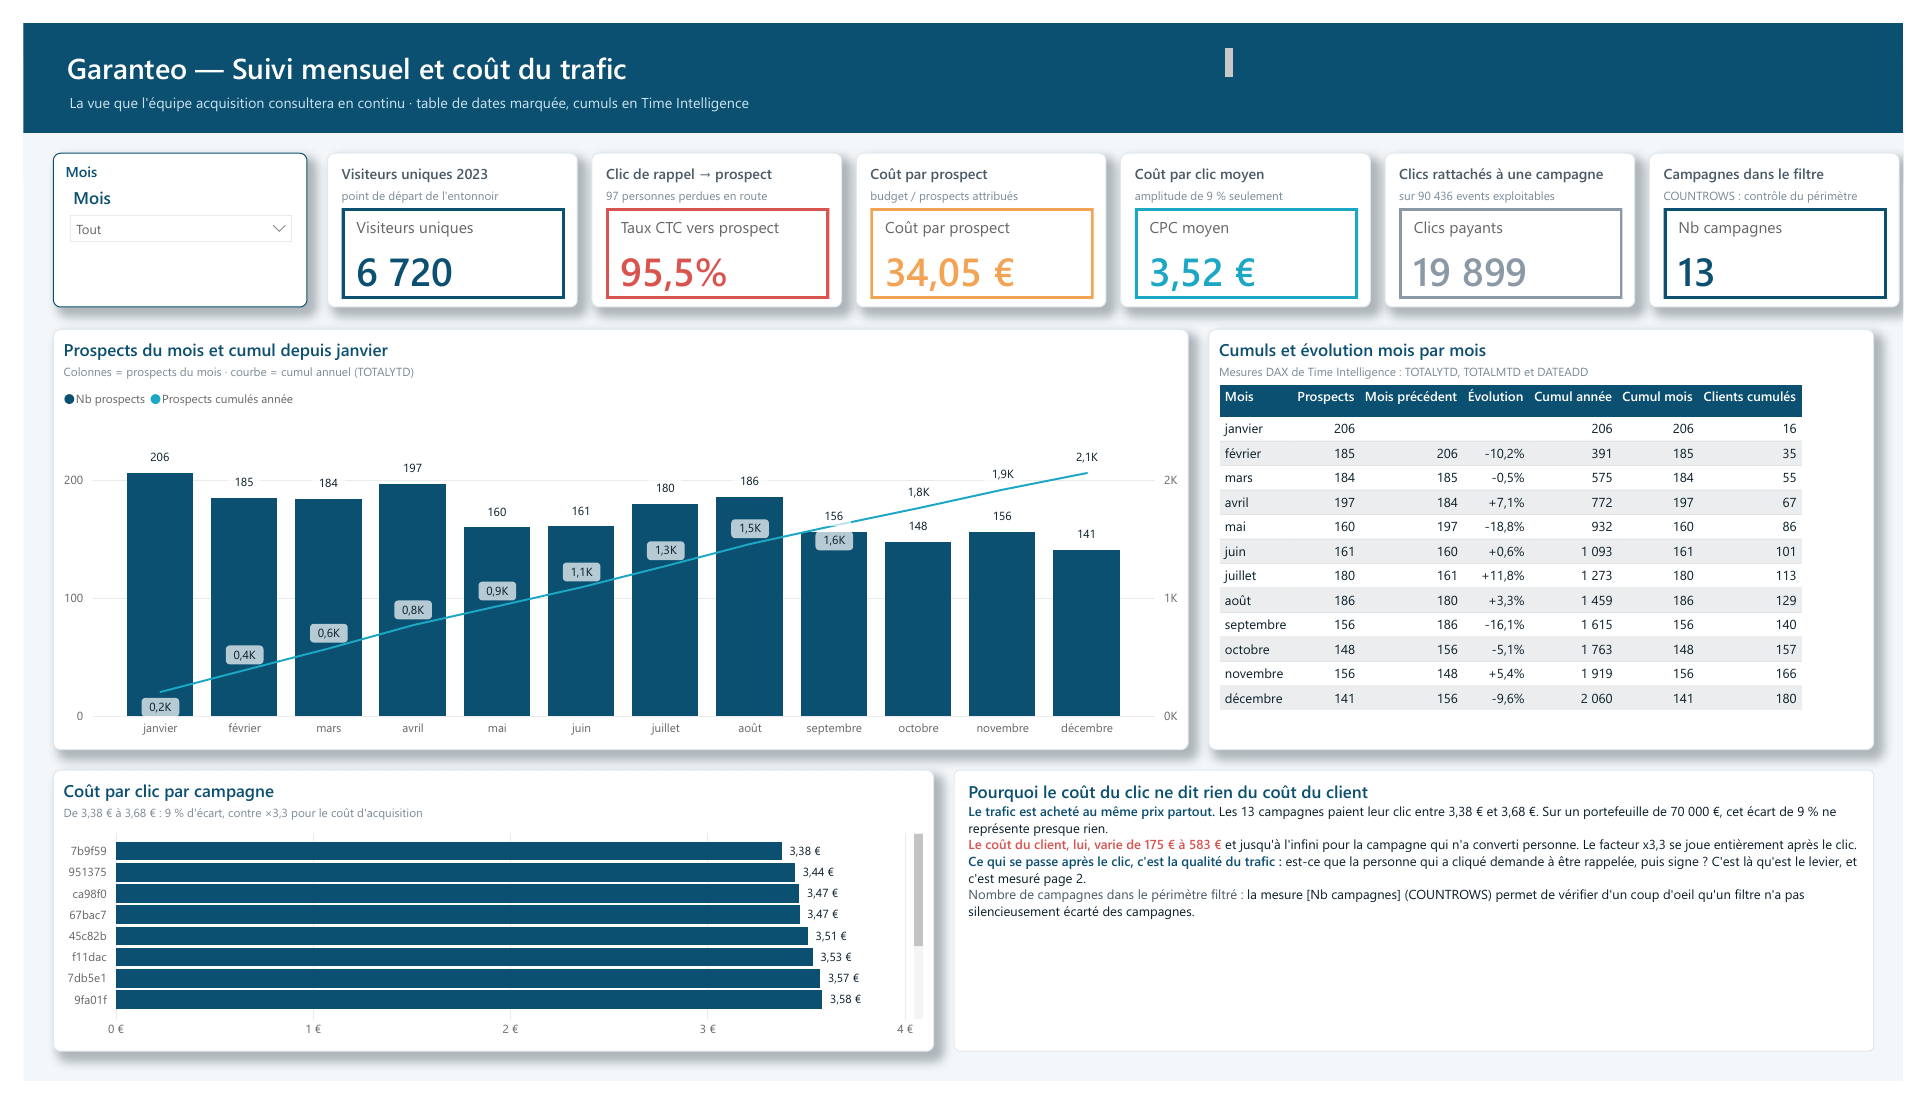

This screenshot's page, from the dashboard's own definition file:
{"tool":"powerbi","page":{"name":"6 · Suivi mensuel","canvas":[1920,1080],"ordinal":5},"visuals":[{"type":"shape","box":[0,0,1920,112],"z":0},{"type":"slicer","title":"Mois","fields":{"Values":["D_Date.Mois"]},"box":[30,132,260,158],"z":1000},{"type":"cardVisual","title":"Visiteurs uniques 2023","fields":{"Data":["_Mesures.Visiteurs uniques"]},"box":[310,132,256,158],"z":2000},{"type":"cardVisual","title":"Clic de rappel → prospect","fields":{"Data":["_Mesures.Taux CTC vers prospect"]},"box":[580,132,256,158],"z":3000},{"type":"cardVisual","title":"Coût par prospect","fields":{"Data":["_Mesures.Coût par prospect"]},"box":[850,132,256,158],"z":4000},{"type":"cardVisual","title":"Coût par clic moyen","fields":{"Data":["_Mesures.CPC moyen"]},"box":[1120,132,256,158],"z":5000},{"type":"cardVisual","title":"Clics rattachés à une campagne","fields":{"Data":["_Mesures.Clics payants"]},"box":[1390,132,256,158],"z":6000},{"type":"cardVisual","title":"Campagnes dans le filtre","fields":{"Data":["_Mesures.Nb campagnes"]},"box":[1660,132,256,158],"z":7000},{"type":"lineClusteredColumnComboChart","title":"Prospects du mois et cumul depuis janvier","fields":{"Category":["D_Date.Mois"],"Y":["_Mesures.Nb prospects"],"Y2":["_Mesures.Prospects cumulés année"]},"box":[30,312,1160,430],"z":8000},{"type":"tableEx","title":"Cumuls et évolution mois par mois","fields":{"Values":["D_Date.Mois","_Mesures.Nb prospects","_Mesures.Prospects mois précédent","_Mesures.Évolution vs mois précédent","_Mesures.Prospects cumulés année","_Mesures.Prospects cumulés mois","_Mesures.Clients cumulés année"]},"box":[1210,312,680,430],"z":9000},{"type":"clusteredBarChart","title":"Coût par clic par campagne","fields":{"Category":["D_Campagne.Code court"],"Y":["Average(CPC.CPC)"]},"box":[30,762,900,288],"z":10000},{"type":"textbox","box":[950,762,940,288],"z":11000},{"type":"textbox","box":[40,20,1200,44],"z":12000},{"type":"textbox","box":[42,66,1400,30],"z":13000}]}

Visuals, with their boxes in screenshot pixels (x1, y1, x2, y2), scaled from the page's 1920x1080 canvas onto the 1927x1105 screenshot:
shape: x1=0, y1=0, x2=1926, y2=115
"Mois" slicer: x1=30, y1=135, x2=291, y2=297
"Visiteurs uniques 2023" cardVisual: x1=311, y1=135, x2=568, y2=297
"Clic de rappel → prospect" cardVisual: x1=582, y1=135, x2=839, y2=297
"Coût par prospect" cardVisual: x1=853, y1=135, x2=1110, y2=297
"Coût par clic moyen" cardVisual: x1=1124, y1=135, x2=1381, y2=297
"Clics rattachés à une campagne" cardVisual: x1=1395, y1=135, x2=1652, y2=297
"Campagnes dans le filtre" cardVisual: x1=1666, y1=135, x2=1923, y2=297
"Prospects du mois et cumul depuis janvier" lineClusteredColumnComboChart: x1=30, y1=319, x2=1194, y2=759
"Cumuls et évolution mois par mois" tableEx: x1=1214, y1=319, x2=1897, y2=759
"Coût par clic par campagne" clusteredBarChart: x1=30, y1=780, x2=933, y2=1074
textbox: x1=953, y1=780, x2=1897, y2=1074
textbox: x1=40, y1=20, x2=1245, y2=65
textbox: x1=42, y1=68, x2=1447, y2=98
